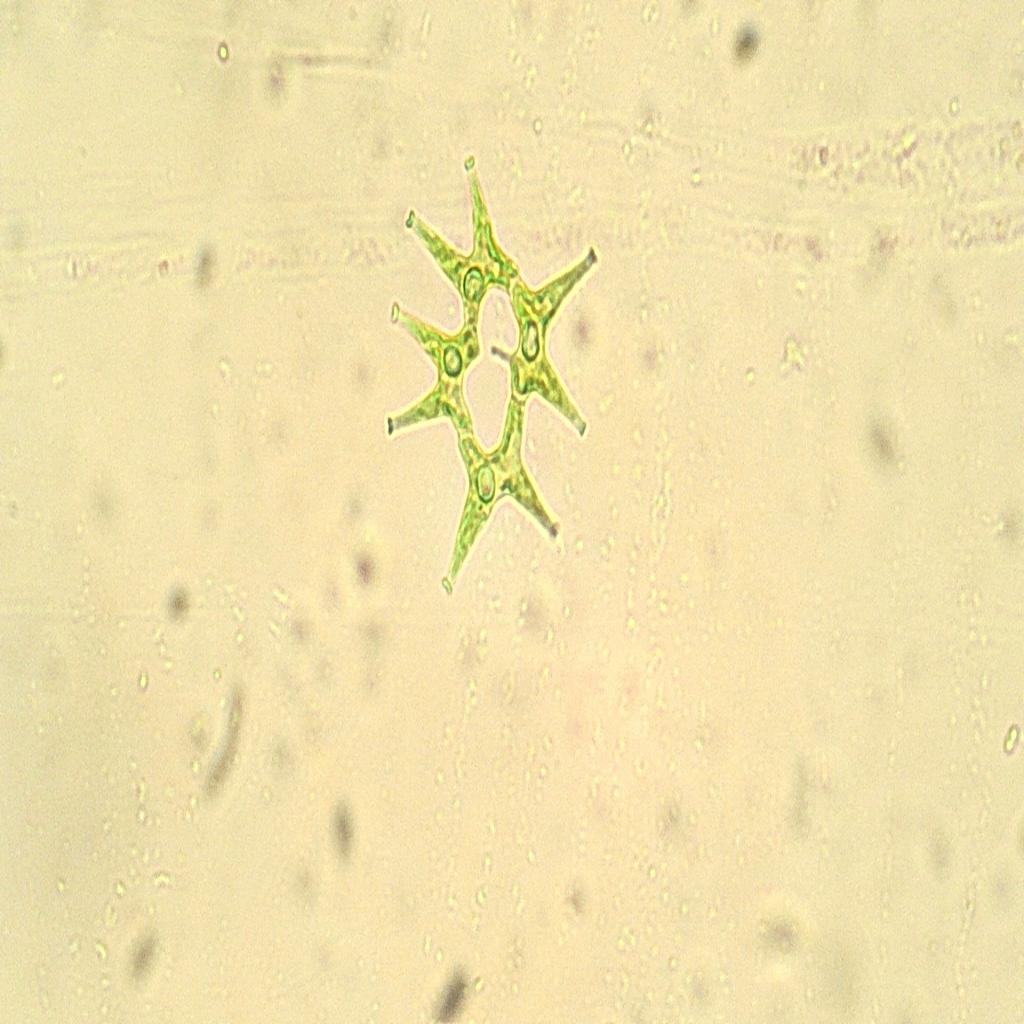Pediastrum_CF: (372, 138, 604, 611)
